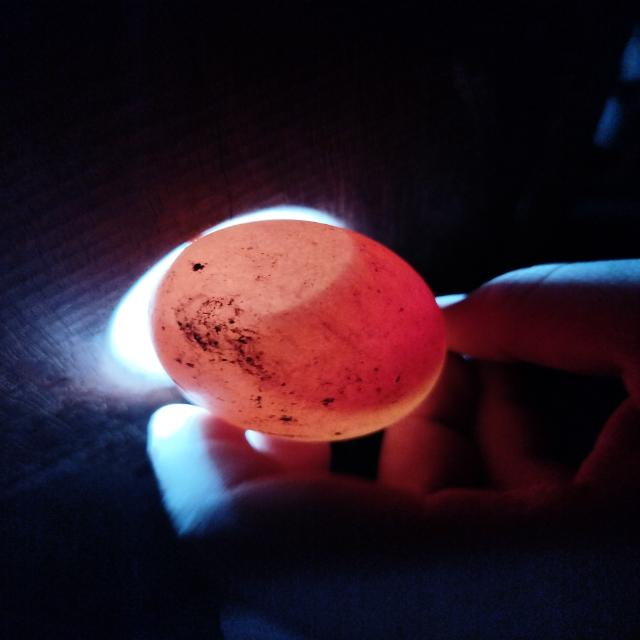Camara de Ar: (150, 220, 352, 323)
